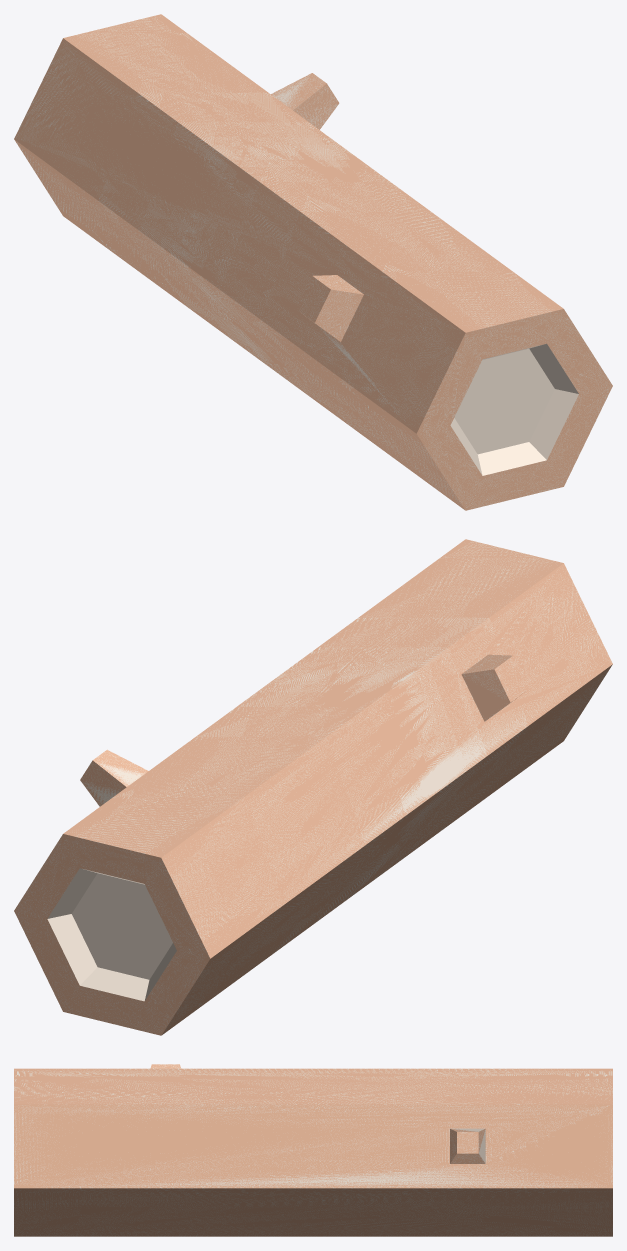
File: log.fbx
3 renders of one model, top to bottom at view 1: azimuth 30°, elevation 25°; view 2: azimuth 150°, elevation 25°; view 3: azimuth 270°, elevation 25°, orthographic. The views are drawn at different scales.
Visible parts, largest first — view 1: log_LOD0; view 2: log_LOD0; view 3: log_LOD0.
Part boxes in pixels (box(x1,y1,x2,y2)): log_LOD0: box(14, 14, 612, 510); log_LOD0: box(14, 539, 612, 1035); log_LOD0: box(14, 1064, 612, 1236).
Size of what is drawn, in the model's own units: 23.4 by 17.32 by 71.
